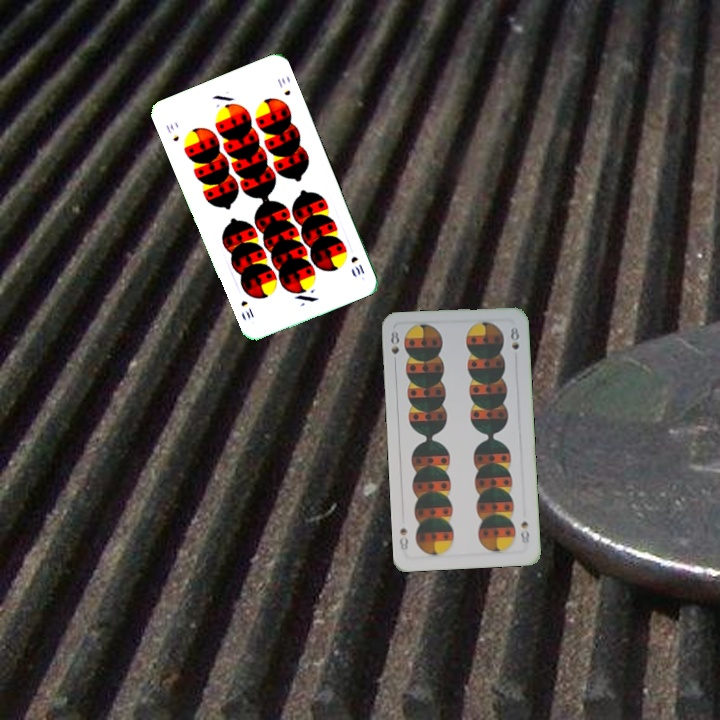S10: (347, 252, 367, 278), (162, 120, 182, 144)
S8: (516, 517, 532, 547), (386, 327, 402, 356)
